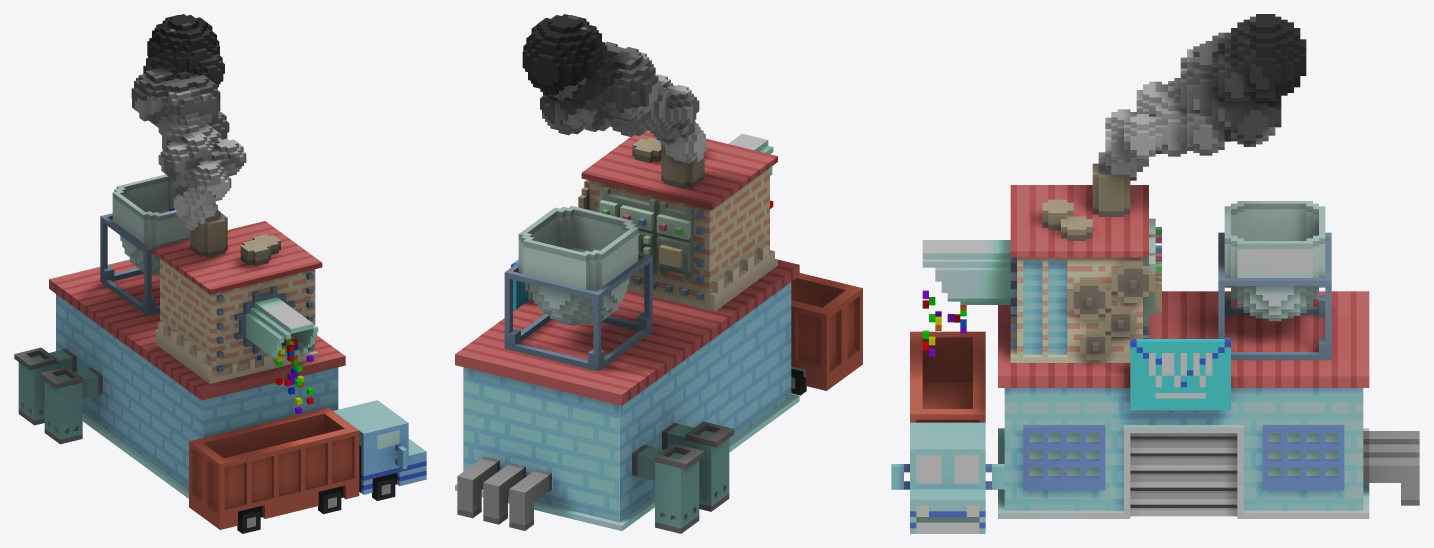
File: factory-transformed.glb
The picture shows the model from 3 angles, left to right: view 1: azimuth 30°, elevation 25°; view 2: azimuth 150°, elevation 25°; view 3: azimuth 270°, elevation 25°; orthographic projection. The views are drawn at different scales.
Visible parts, largest first — view 1: Object_2; view 2: Object_2; view 3: Object_2.
Boxes of the visible parts, x1=… form: Object_2: x1=14, y1=14, x2=426, y2=533; Object_2: x1=455, y1=14, x2=862, y2=533; Object_2: x1=891, y1=14, x2=1419, y2=533.
Bounding box in the file's own units: 6.5 × 10.25 × 10.5.
